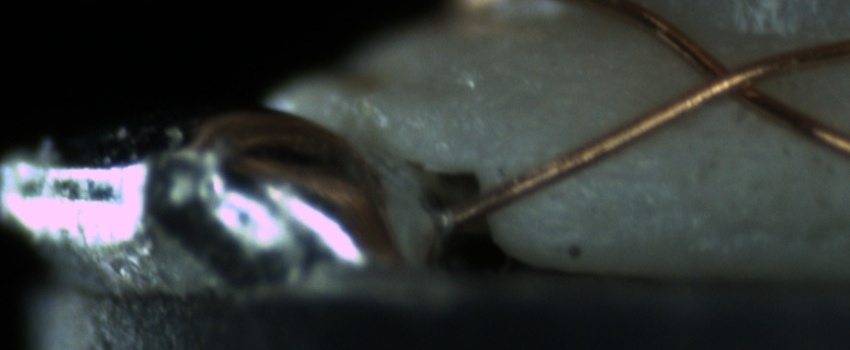CL: (680, 51, 782, 112)
DL: (543, 146, 670, 198)
